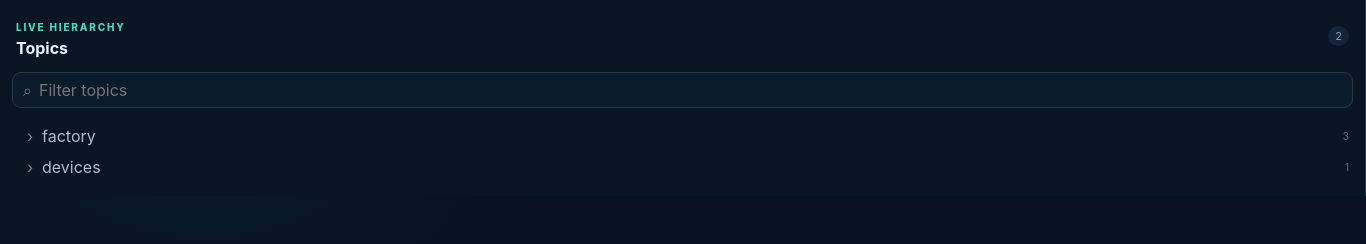
Test: TopicExplorer › reveals matching nested topics while searching
In the field named "Filter topics": (690, 90) [39, 72, 1342, 108], type "temperature"
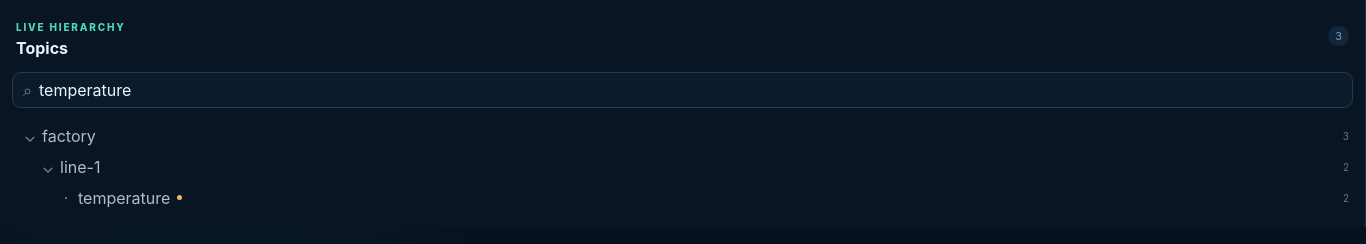
expect the button with aria-label "factory/line-1/temperature" is shown: met, box [78, 188, 1343, 208]
